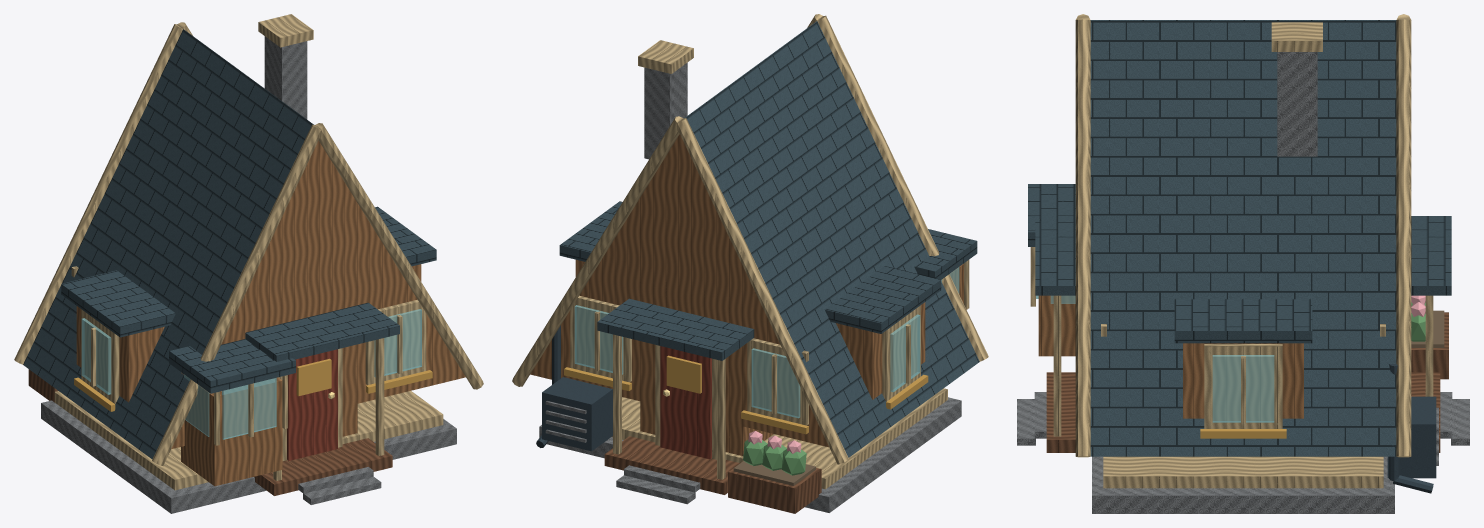
File: house_aframe_lv2_bay.glb
3 renders of one model, left to right at view 1: azimuth 30°, elevation 25°; view 2: azimuth 150°, elevation 25°; view 3: azimuth 270°, elevation 25°, orthographic. The views are drawn at different scales.
Parts seen in each view (by area): view 1: steep_roof, a_frame_gables, bay_base, foundation, floor_trim, front_porch_canopy, a_frame_edge, left_dormer_cap, a_frame_edge.001, bay_cap, walls, a_frame_edge.002 (+18 smaller); view 2: steep_roof, a_frame_gables, walls, back_porch_canopy, a_frame_edge.001, left_dormer_cap, foundation, back_door, a_frame_edge.003, a_frame_edge, back_ac_unit, floor_trim (+23 smaller); view 3: steep_roof.001, floor_trim, foundation, a_frame_edge.002, a_frame_edge.003, right_window_frame, right_dormer_cap, chimney, right_window_glass, right_dormer, back_porch_canopy, front_porch_canopy (+15 smaller).
Boxes of the visible parts, x1,y1,x2,y2 form: steep_roof: (23, 29, 313, 459); a_frame_gables: (171, 140, 465, 448); bay_base: (181, 372, 282, 486); foundation: (41, 400, 456, 513); floor_trim: (54, 391, 443, 490); front_porch_canopy: (245, 302, 399, 361); a_frame_edge: (152, 124, 320, 465); left_dormer_cap: (61, 270, 175, 337); a_frame_edge.001: (14, 24, 182, 364); bay_cap: (169, 339, 295, 393); walls: (256, 280, 357, 436); a_frame_edge.002: (315, 123, 483, 389); steep_roof: (684, 21, 979, 457); a_frame_gables: (530, 134, 828, 447); walls: (640, 276, 773, 455); back_porch_canopy: (597, 298, 754, 360); a_frame_edge.001: (677, 118, 848, 464); left_dormer_cap: (825, 266, 941, 333); foundation: (539, 397, 961, 512); back_door: (660, 346, 711, 459); a_frame_edge.003: (512, 116, 683, 386); a_frame_edge: (817, 15, 988, 361); back_ac_unit: (542, 377, 612, 451); floor_trim: (612, 388, 947, 489); steep_roof.001: (1090, 20, 1396, 456); floor_trim: (1103, 456, 1383, 488); foundation: (1092, 456, 1394, 513); a_frame_edge.002: (1075, 19, 1090, 457); a_frame_edge.003: (1396, 19, 1411, 457); right_window_frame: (1204, 344, 1282, 428); right_dormer_cap: (1174, 299, 1312, 343); chimney: (1277, 52, 1317, 156); right_window_glass: (1212, 355, 1274, 422); right_dormer: (1183, 343, 1303, 418); back_porch_canopy: (1411, 216, 1451, 295); front_porch_canopy: (1035, 216, 1075, 295).
Size of the model in its own units: 3.3 by 3.56 by 3.36.
Materials: 13 (7 with a texture image).
